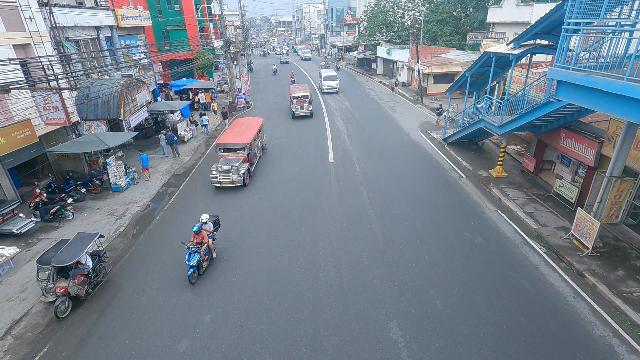car: (279, 54, 290, 65)
jeepney: (209, 115, 267, 192), (288, 84, 314, 120), (274, 45, 283, 55)
motorcycle: (183, 211, 224, 286), (289, 72, 296, 85), (272, 64, 278, 74), (335, 61, 340, 71), (266, 48, 270, 55)
truck: (299, 50, 312, 61)
van: (318, 69, 340, 95)
